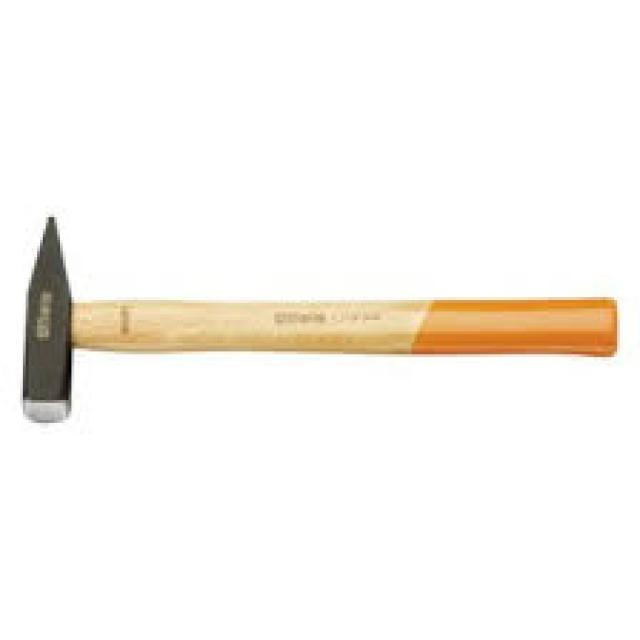hammer: (0, 202, 632, 440)
